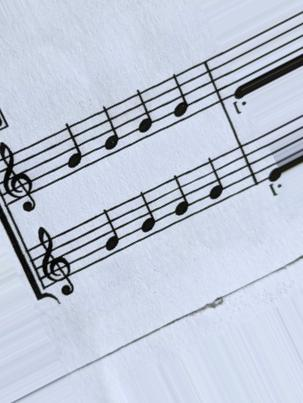note: (163, 70, 201, 120), (200, 157, 236, 204), (55, 123, 89, 172), (94, 105, 126, 155), (129, 87, 159, 139), (163, 178, 197, 222), (95, 210, 127, 255), (130, 193, 162, 236)
